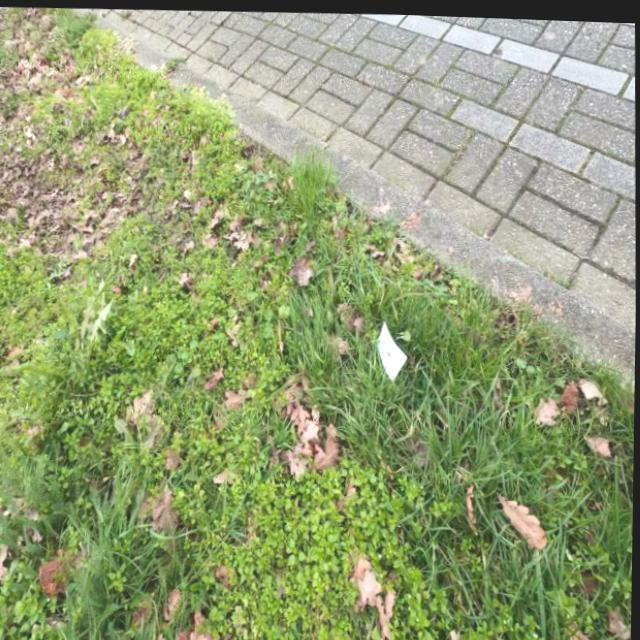Paper: (373, 315, 406, 386)
